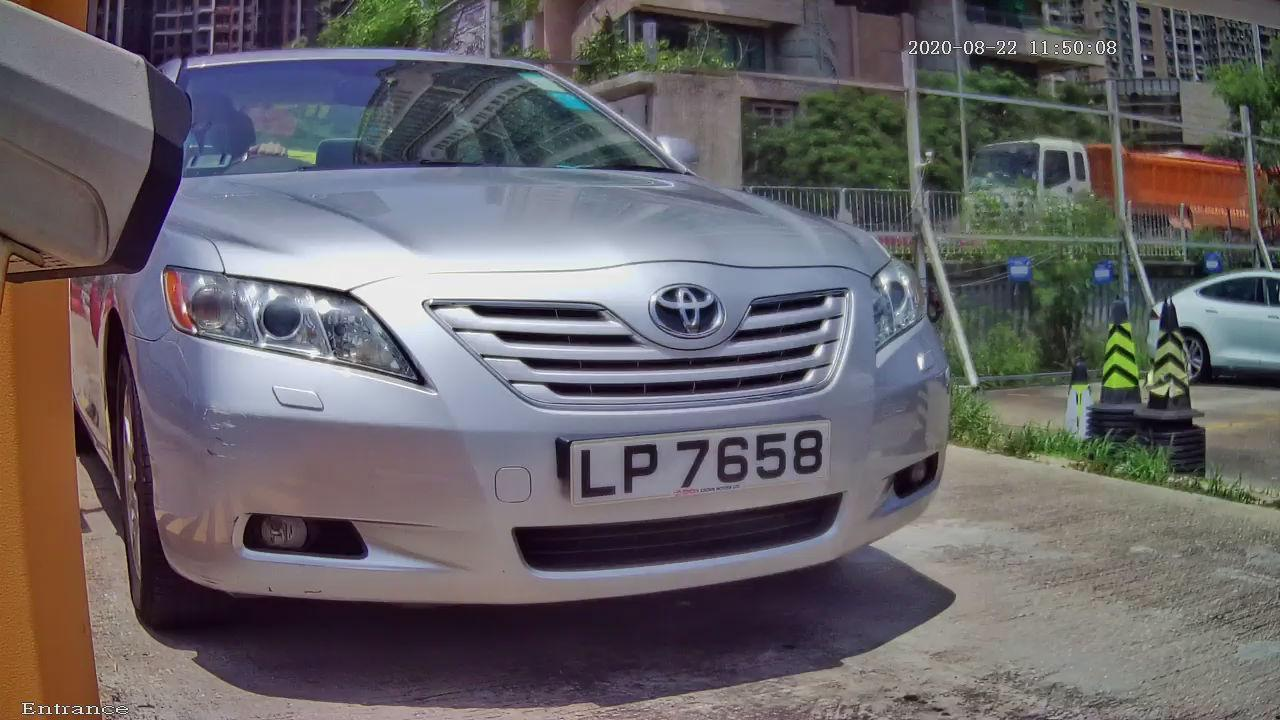License Plate: (533, 365, 851, 552)
